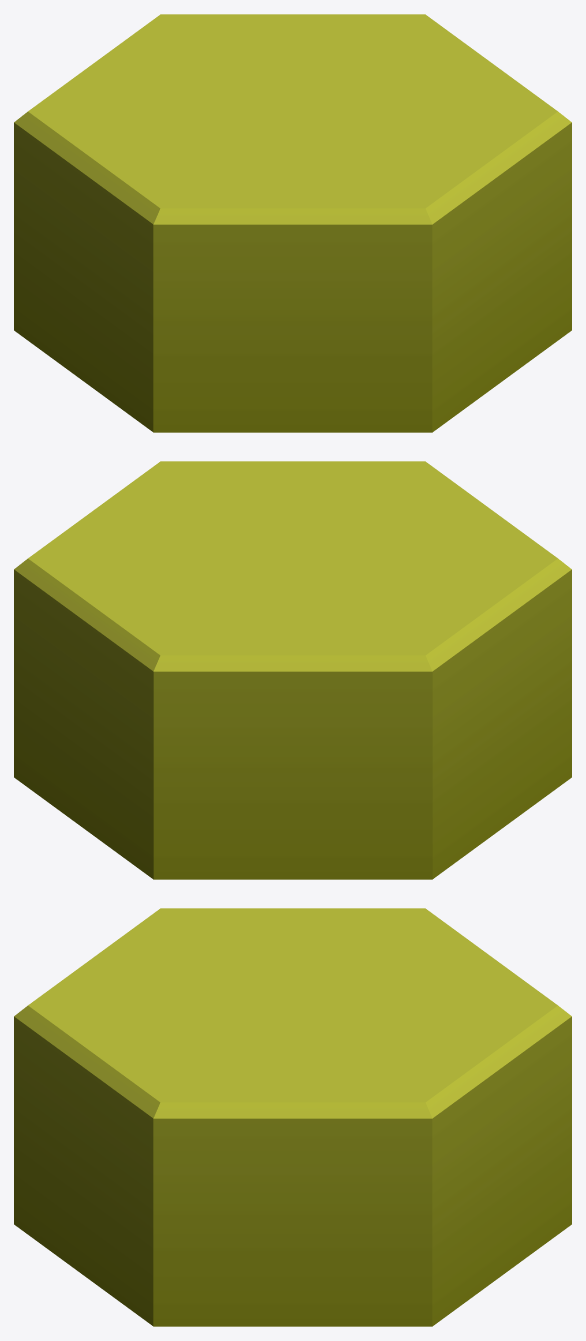
The model's file is kaykit-medieval-hexagon-pack-hex-grass.glb.
3 renders of one model, top to bottom at view 1: azimuth 30°, elevation 25°; view 2: azimuth 150°, elevation 25°; view 3: azimuth 270°, elevation 25°, orthographic.
Visible parts, largest first — view 1: hex_grass; view 2: hex_grass; view 3: hex_grass.
Part boxes in pixels (x1,y1,x2,y2): hex_grass: (14,14,571,432); hex_grass: (14,461,571,879); hex_grass: (14,908,571,1326).
Bounding box in the file's own units: 2 × 1 × 2.31.
1 material, 1 textured.
